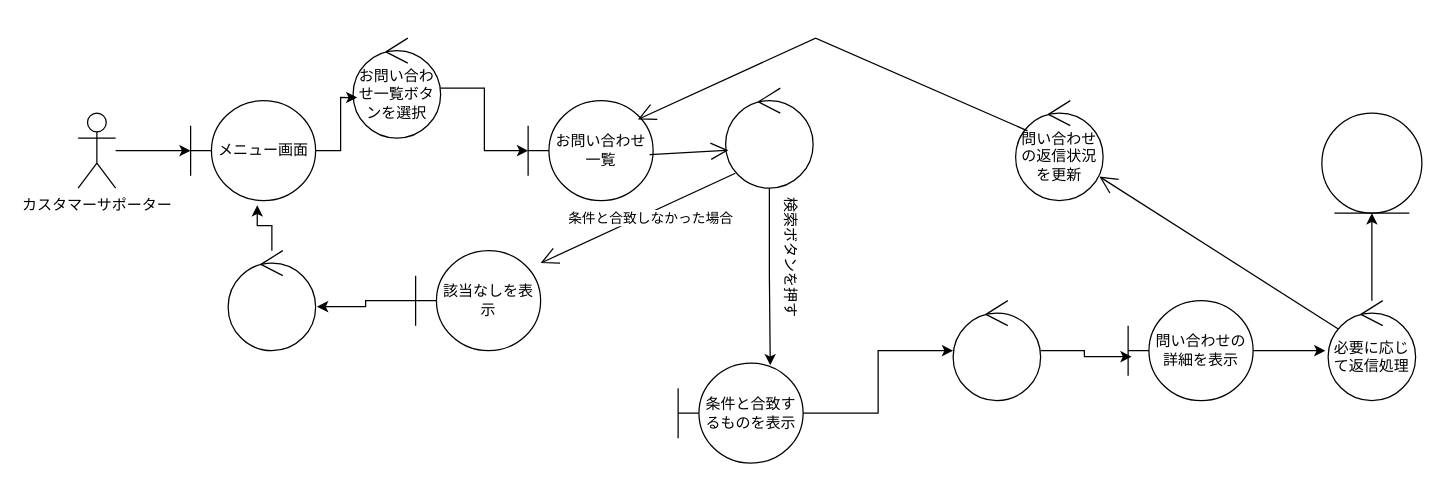
Image size: 1444x485. Some labels were removed from this diagram. Each missing label, with the centre of its shape:
"メニュー画面に戻るを選択" goes at point 271,300.
"条件を入力" goes at point 768,137.
"確認したい問い合わせを選択" goes at point 996,350.
"返信内容を登録" goes at point 1371,162.
